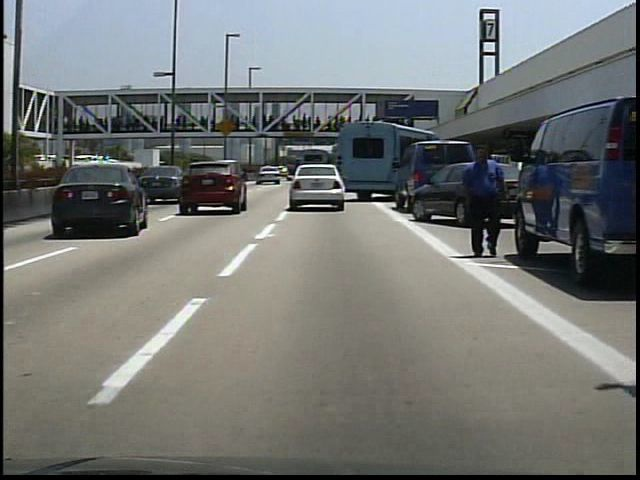person: (456, 146, 509, 259)
